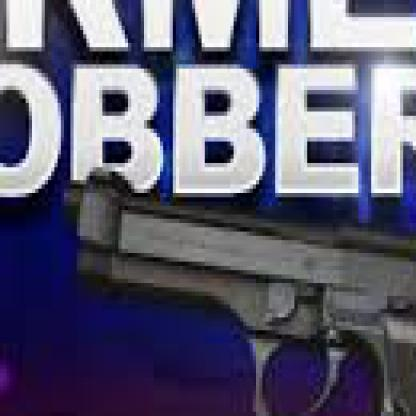gun: (54, 150, 413, 412)
